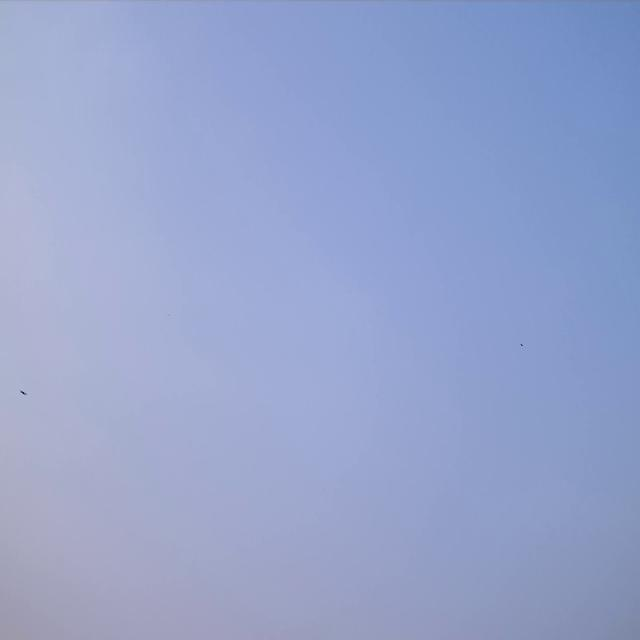UAV: (19, 389, 28, 396)
